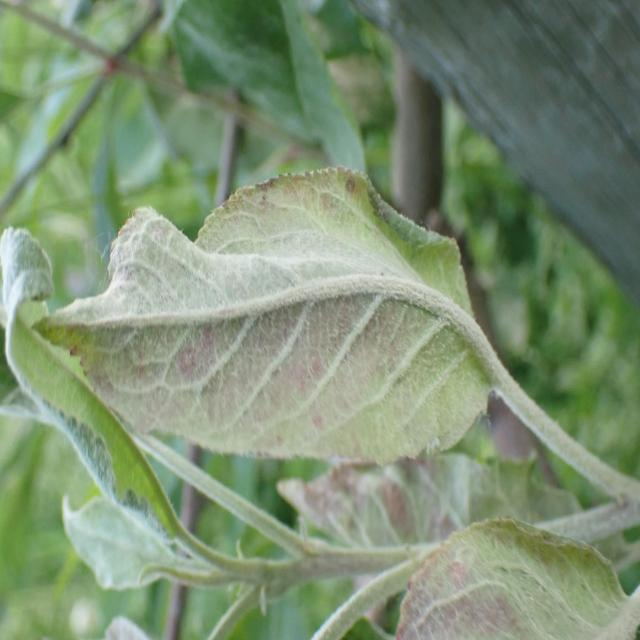Powdery_mildew: (19, 165, 492, 474), (362, 500, 640, 640)
